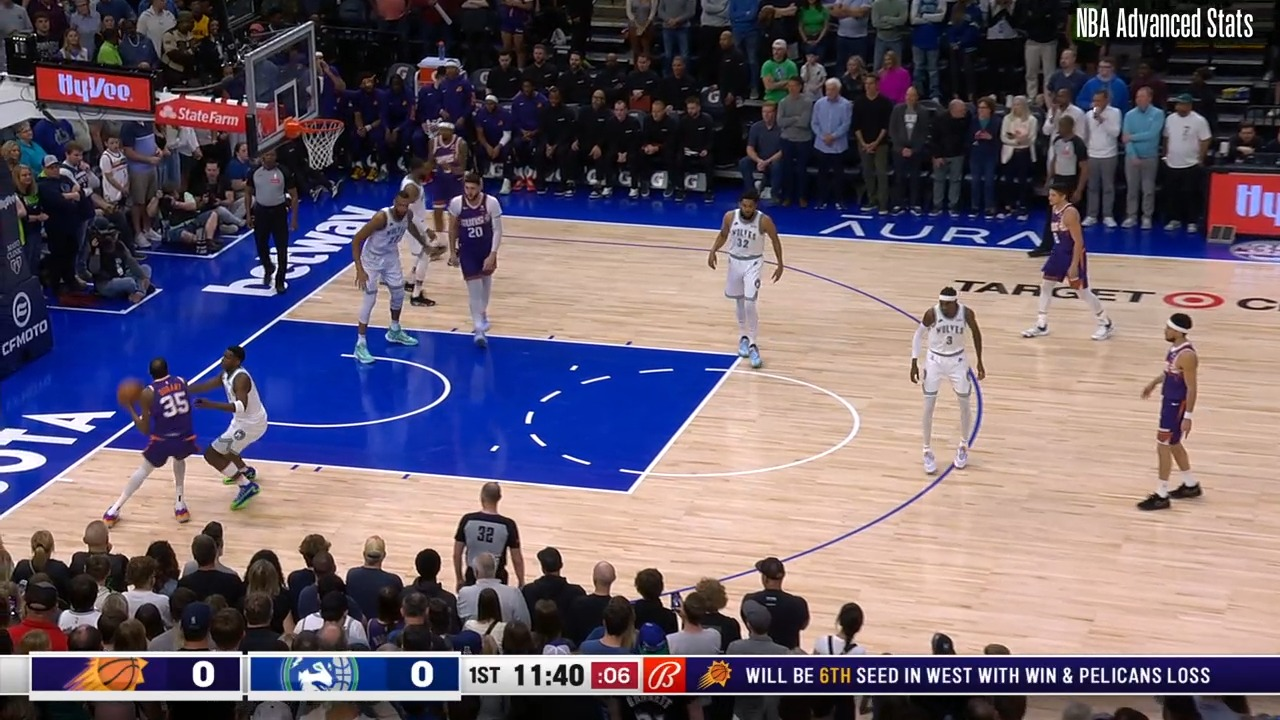basketball: (117, 378, 142, 409)
